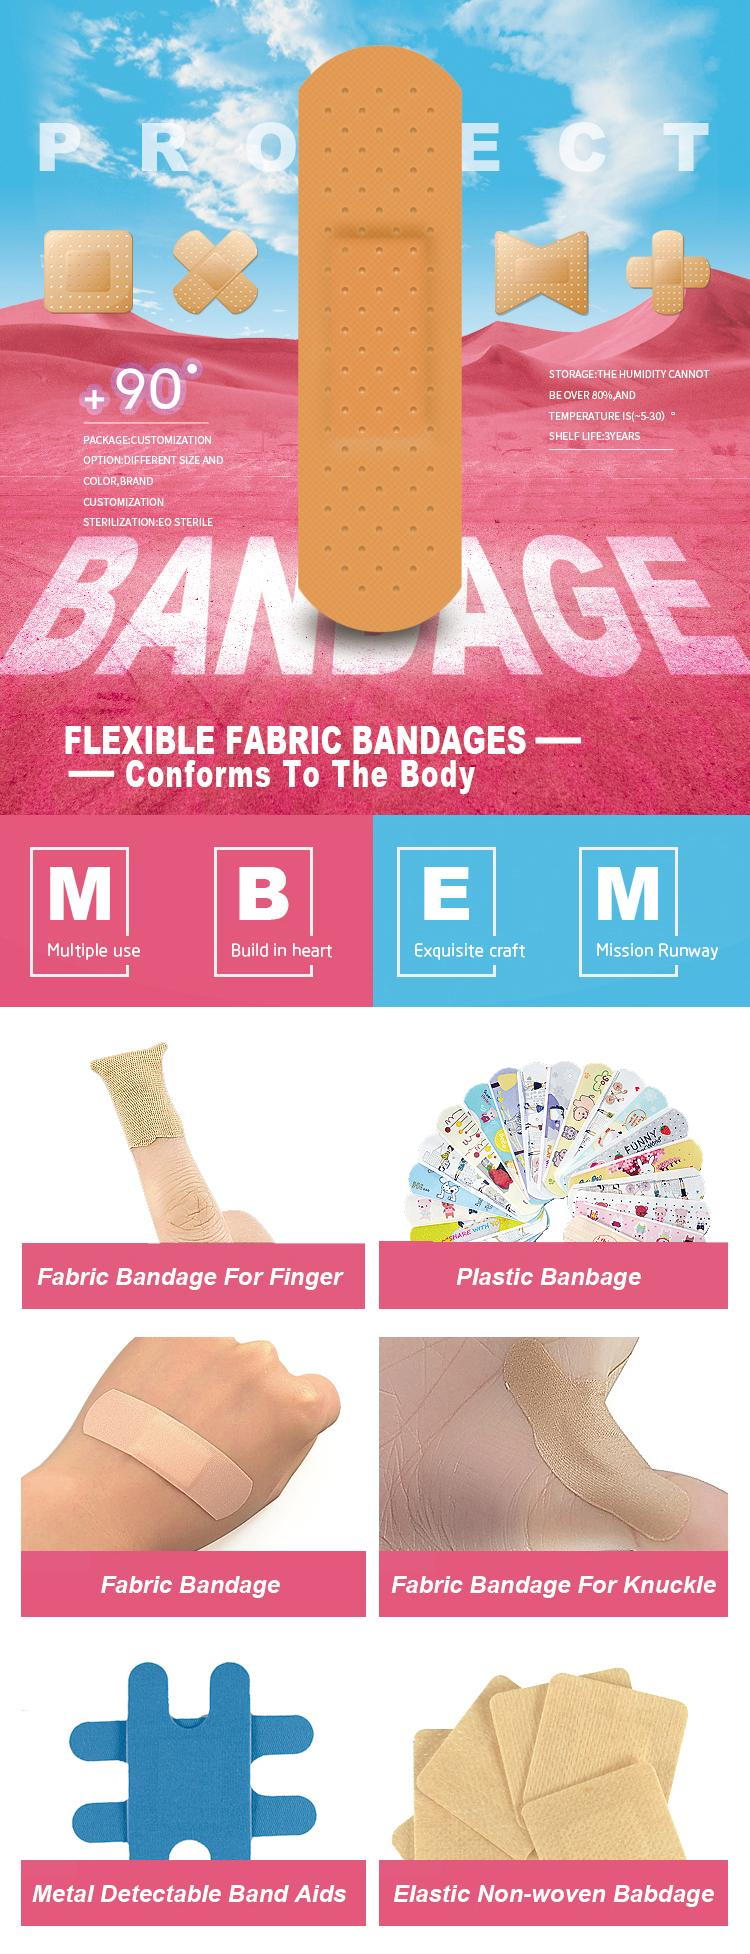bandage: (298, 45, 461, 634), (397, 1054, 708, 1239), (500, 1336, 689, 1539), (67, 1715, 318, 1832), (125, 1660, 252, 1862), (487, 1669, 645, 1826), (529, 1671, 686, 1827), (80, 1388, 254, 1523), (419, 1675, 536, 1862), (525, 1765, 688, 1859), (87, 1038, 192, 1155), (411, 1731, 495, 1864), (495, 229, 588, 315), (41, 231, 133, 315), (624, 228, 710, 315), (174, 229, 257, 318), (385, 1823, 421, 1862)
